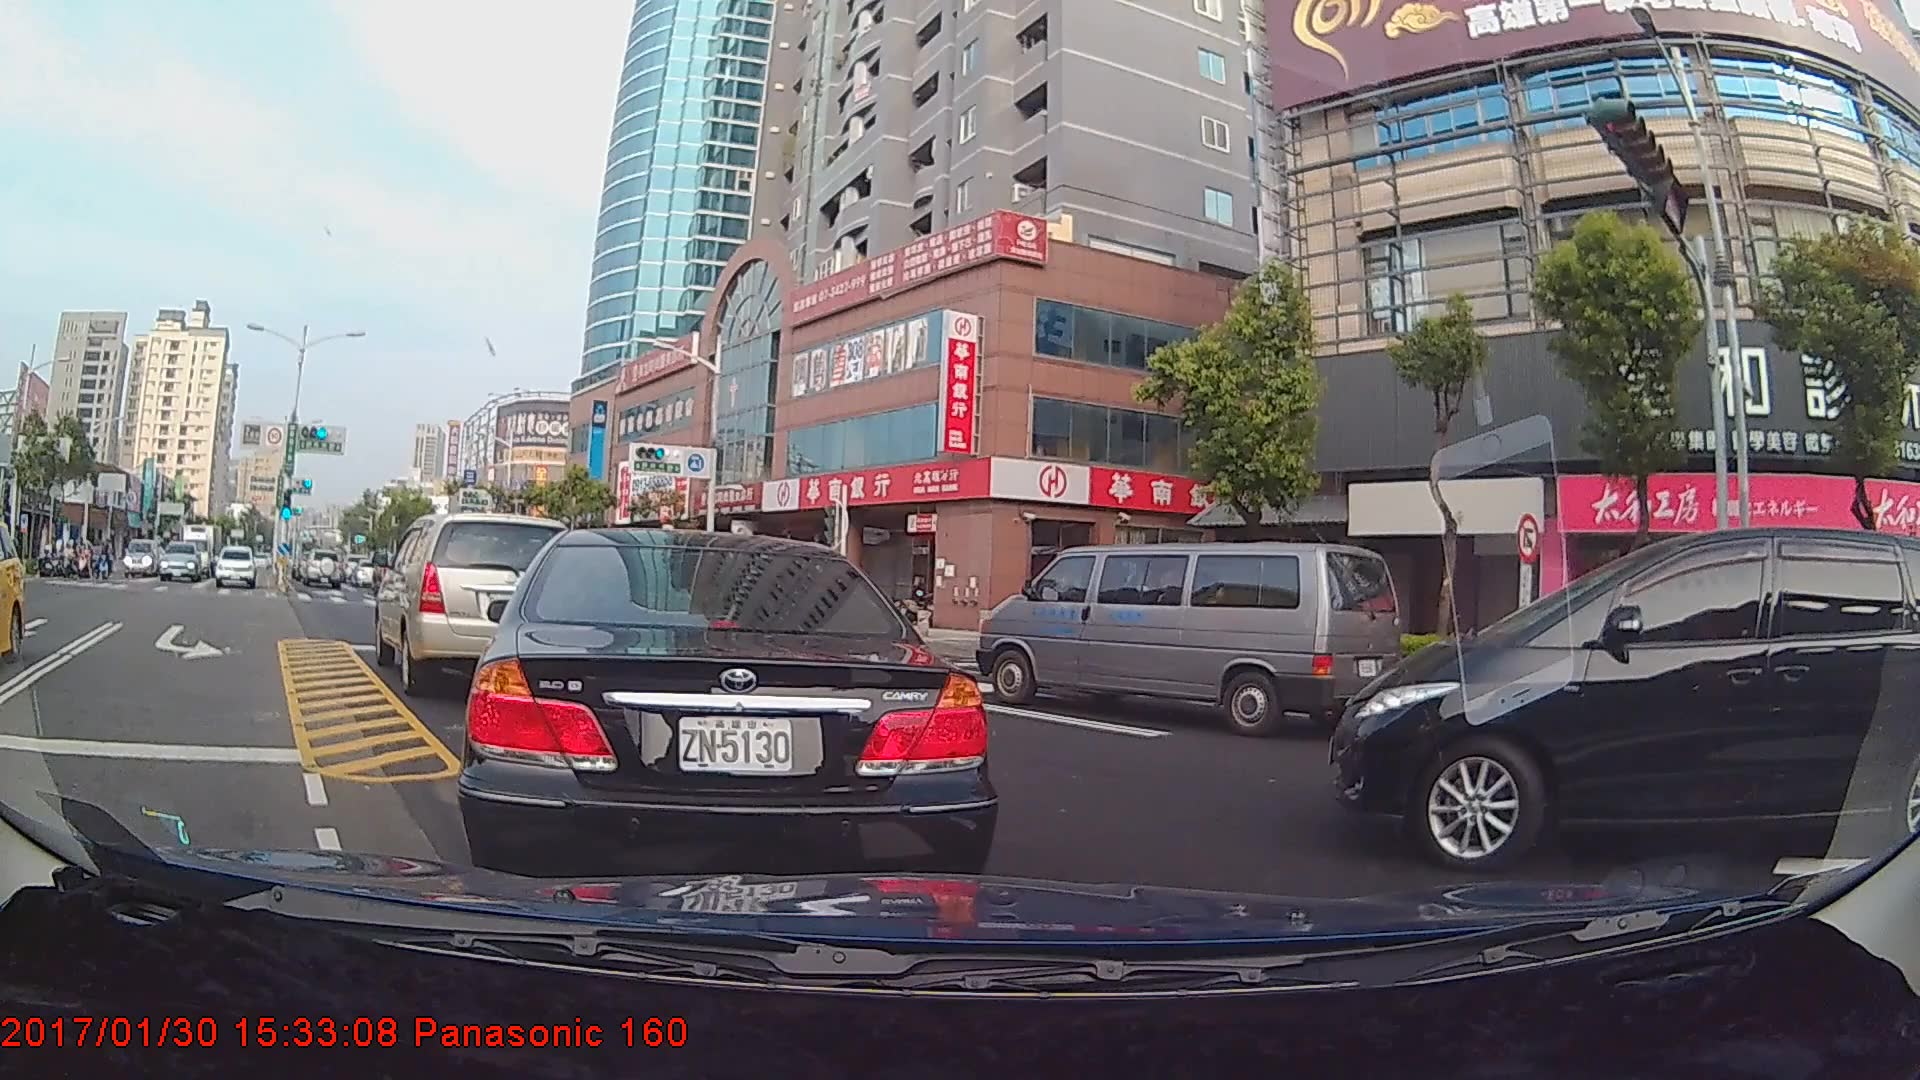vehicle: (1335, 530, 1904, 891), (468, 525, 982, 891), (996, 538, 1398, 737), (378, 508, 574, 678), (0, 524, 26, 661), (173, 522, 227, 572), (295, 546, 345, 589), (158, 541, 207, 583), (214, 545, 257, 589), (123, 537, 167, 578)
